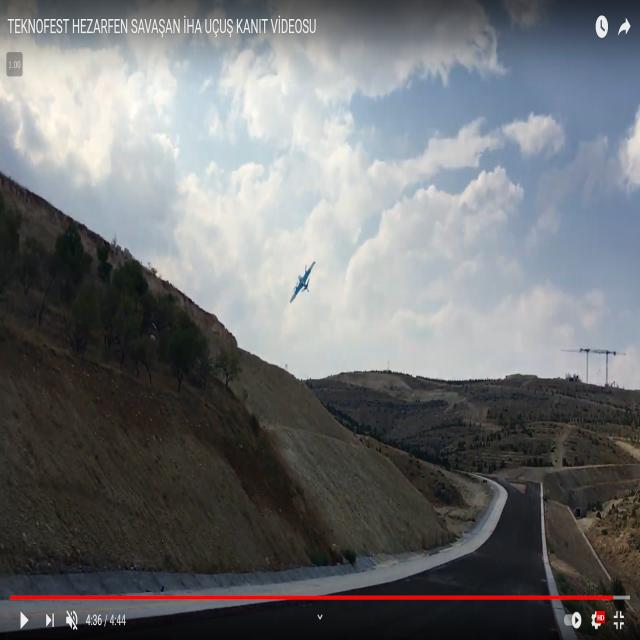iha: (289, 260, 316, 304)
